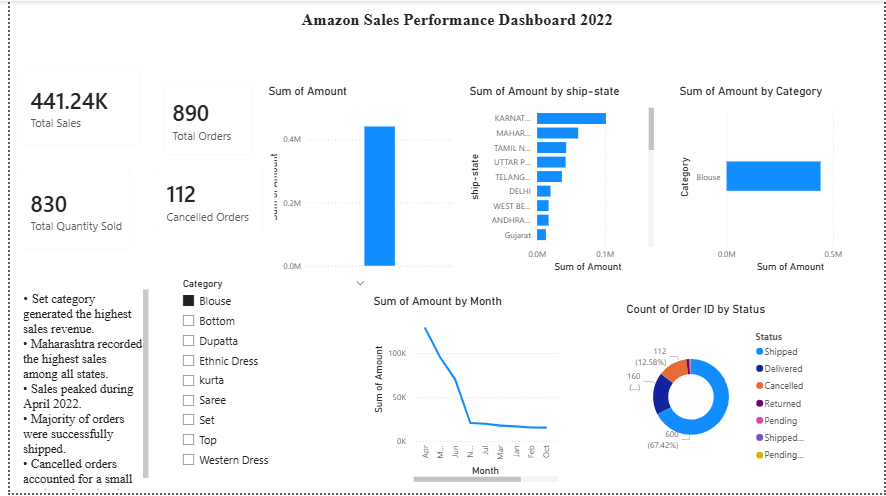

The page's visual inventory and layout, read from the dashboard file:
{"tool":"powerbi","page":{"name":"Page 1","canvas":[1280,720],"ordinal":0},"visuals":[{"type":"clusteredColumnChart","fields":{"Y":["Sum(Amazon Sale Report.Amount)"]},"box":[373.3,121.7,280,280],"z":0},{"type":"barChart","fields":{"Category":["Amazon Sale Report.Category"],"Y":["Sum(Amazon Sale Report.Amount)"]},"box":[975,121.7,280,280],"z":1000},{"type":"lineChart","fields":{"Category":["Amazon Sale Report.Month"],"Y":["Sum(Amazon Sale Report.Amount)"]},"box":[526.7,428.3,280,280],"z":2000},{"type":"barChart","fields":{"Category":["Amazon Sale Report.ship-state"],"Y":["Sum(Amazon Sale Report.Amount)"]},"box":[666.7,121.7,280,280],"z":3000},{"type":"slicer","fields":{"Values":["Amazon Sale Report.Category"]},"box":[240,401.7,291.7,303.3],"z":4000},{"type":"donutChart","fields":{"Category":["Amazon Sale Report.Status"],"Y":["CountNonNull(Amazon Sale Report.Order ID)"]},"box":[896.7,440,280,256.7],"z":5000},{"type":"cardVisual","fields":{"Data":["Amazon Sale Report.Total Sales"]},"box":[0,81.7,208.3,146.7],"z":6000},{"type":"cardVisual","fields":{"Data":["Amazon Sale Report.Total Orders"]},"box":[208.3,103.3,165,138.3],"z":7000},{"type":"cardVisual","fields":{"Data":["Amazon Sale Report.Total Quantity Sold"]},"box":[0,228.3,193.3,153.3],"z":8000},{"type":"cardVisual","fields":{"Data":["Amazon Sale Report.Cancelled Orders"]},"box":[198.3,228.3,188.3,126.7],"z":9000},{"type":"textbox","box":[15,416.7,193.3,303.3],"z":10000},{"type":"textbox","box":[421.7,8.3,553.3,73.3],"z":10001}]}

Visuals, with their boxes in screenshot pixels (x1, y1, x2, y2), scaled from the page's 1280x720 canvas onto the 886x496 screenshot:
clusteredColumnChart - Sum(Amazon Sale Report.Amount): left=258, top=84, right=452, bottom=277
barChart - Amazon Sale Report.Category x Sum(Amazon Sale Report.Amount): left=675, top=84, right=869, bottom=277
lineChart - Amazon Sale Report.Month x Sum(Amazon Sale Report.Amount): left=365, top=295, right=558, bottom=488
barChart - Amazon Sale Report.ship-state x Sum(Amazon Sale Report.Amount): left=461, top=84, right=655, bottom=277
slicer - Amazon Sale Report.Category: left=166, top=277, right=368, bottom=486
donutChart - Amazon Sale Report.Status x CountNonNull(Amazon Sale Report.Order ID): left=621, top=303, right=814, bottom=480
cardVisual - Amazon Sale Report.Total Sales: left=0, top=56, right=144, bottom=157
cardVisual - Amazon Sale Report.Total Orders: left=144, top=71, right=258, bottom=166
cardVisual - Amazon Sale Report.Total Quantity Sold: left=0, top=157, right=134, bottom=263
cardVisual - Amazon Sale Report.Cancelled Orders: left=137, top=157, right=268, bottom=245
textbox: left=10, top=287, right=144, bottom=495
textbox: left=292, top=6, right=675, bottom=56
